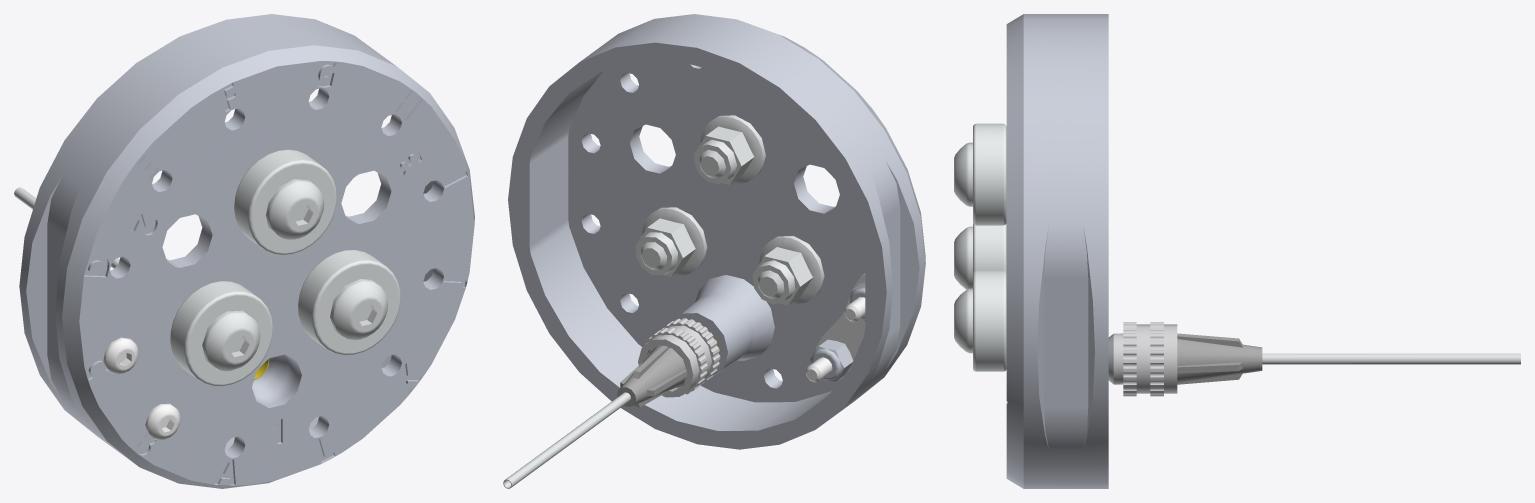
File: seeder.glb
3 renders of one model, left to right at view 1: azimuth 30°, elevation 25°; view 2: azimuth 150°, elevation 25°; view 3: azimuth 270°, elevation 25°, orthographic. The views are drawn at different scales.
Visible parts, largest first — view 1: Seeder Brass Insert; view 2: Seeder Brass Insert; view 3: Seeder Brass Insert.
Boxes of the visible parts, <box> form: Seeder Brass Insert: <box>14,14,474,488</box>; Seeder Brass Insert: <box>503,14,925,488</box>; Seeder Brass Insert: <box>954,14,1520,488</box>.
Bounding box in the file's own units: 0.07 × 0.07 × 0.0835.
1 material, 1 textured.
